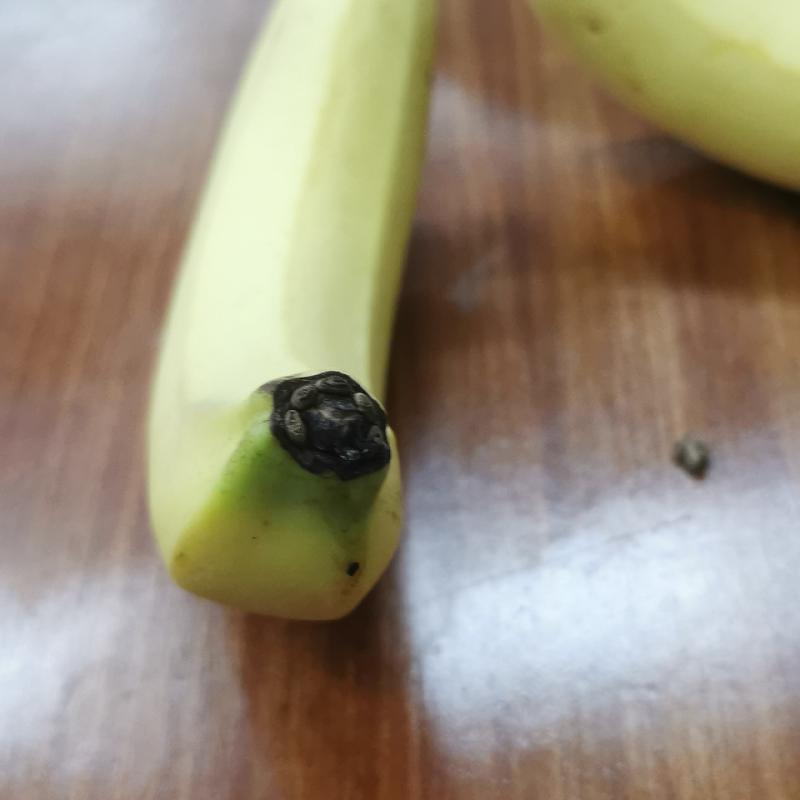bananas: (139, 1, 453, 622)
